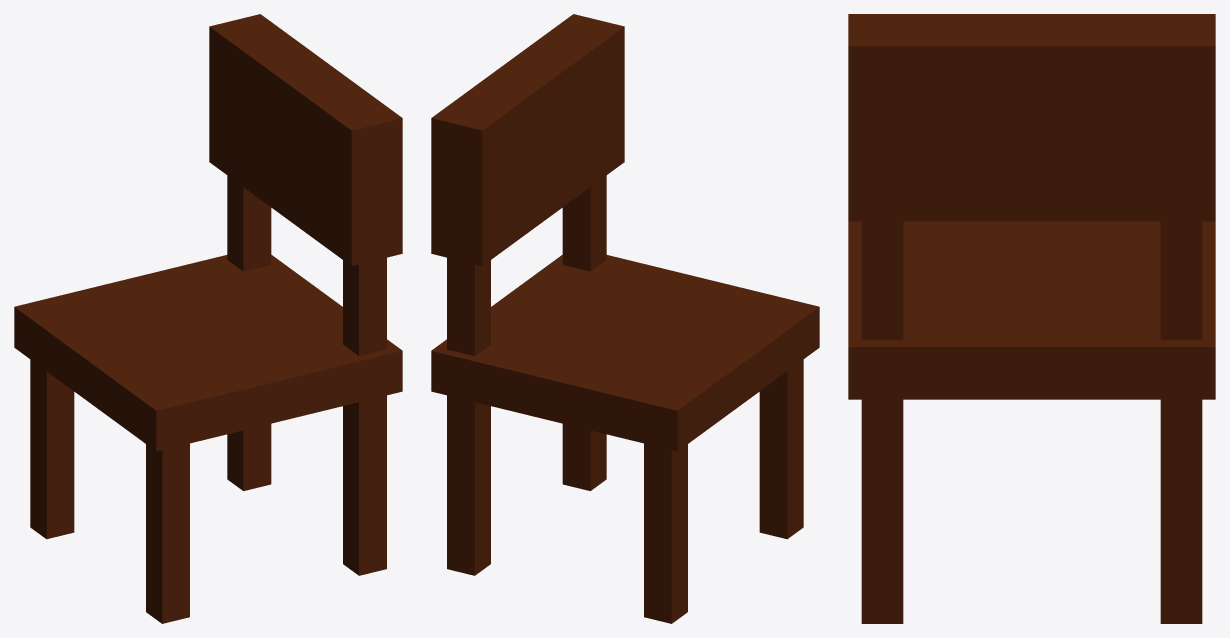
The model's file is Chair.obj.
3 views of the same model, side by side, from view 1: azimuth 30°, elevation 25°; view 2: azimuth 150°, elevation 25°; view 3: azimuth 270°, elevation 25° (orthographic). The views are drawn at different scales.
Parts seen in each view (by area): view 1: 椅子面, 椅子背もたれ, 椅子足, 椅子足.001; view 2: 椅子面, 椅子背もたれ, 椅子足, 椅子足.001; view 3: 椅子背もたれ, 椅子面, 椅子足.
Part boxes in pixels (bbox=[...]): 椅子面: bbox=[14, 255, 402, 451]; 椅子背もたれ: bbox=[209, 14, 402, 266]; 椅子足: bbox=[227, 175, 386, 575]; 椅子足.001: bbox=[30, 359, 189, 623]; 椅子面: bbox=[431, 255, 819, 451]; 椅子背もたれ: bbox=[431, 14, 624, 266]; 椅子足: bbox=[447, 175, 606, 575]; 椅子足.001: bbox=[644, 359, 803, 623]; 椅子背もたれ: bbox=[848, 14, 1215, 221]; 椅子面: bbox=[848, 221, 1215, 399]; 椅子足: bbox=[861, 221, 1202, 623].
Bounding box in the file's own units: 6.91 × 12.12 × 6.91.
